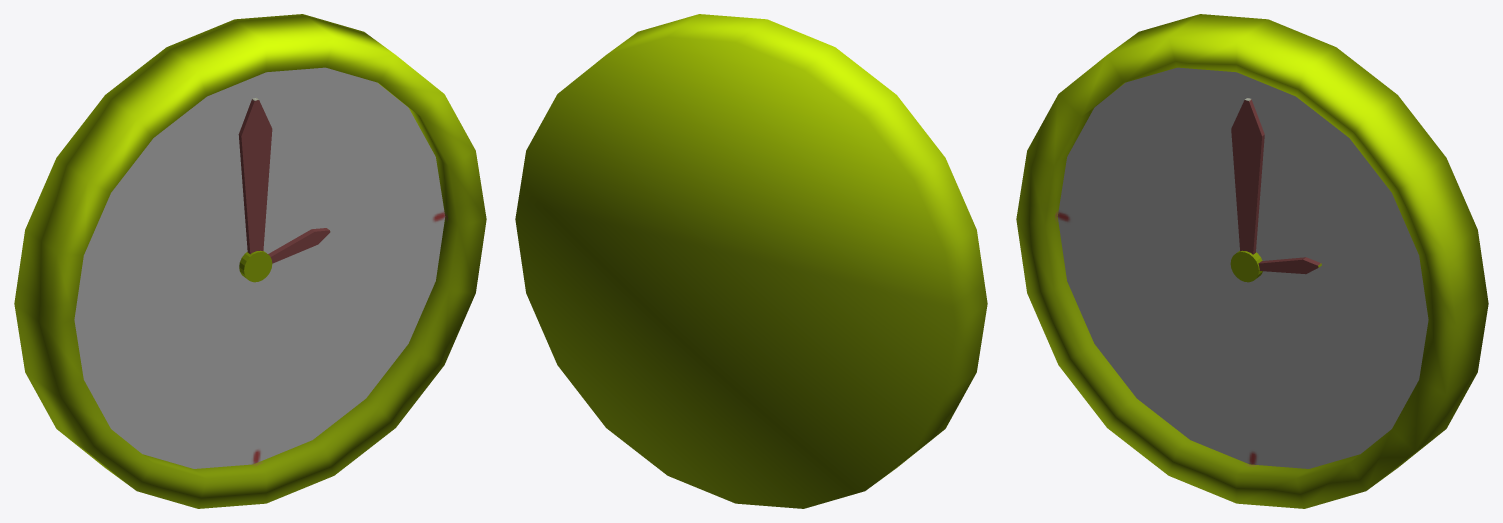
The model's file is item_clock.fbx.
The picture shows the model from 3 angles, left to right: view 1: azimuth 30°, elevation 25°; view 2: azimuth 150°, elevation 25°; view 3: azimuth 330°, elevation 25°; orthographic projection.
Visible parts, largest first — view 1: item_clock1; view 2: item_clock1; view 3: item_clock1.
Part boxes in pixels (<box>): item_clock1: <box>14,14,486,508</box>; item_clock1: <box>515,14,987,508</box>; item_clock1: <box>1016,14,1488,508</box>.
Bounding box in the file's own units: 34.44 × 34.44 × 4.29.
1 material, 1 textured.
